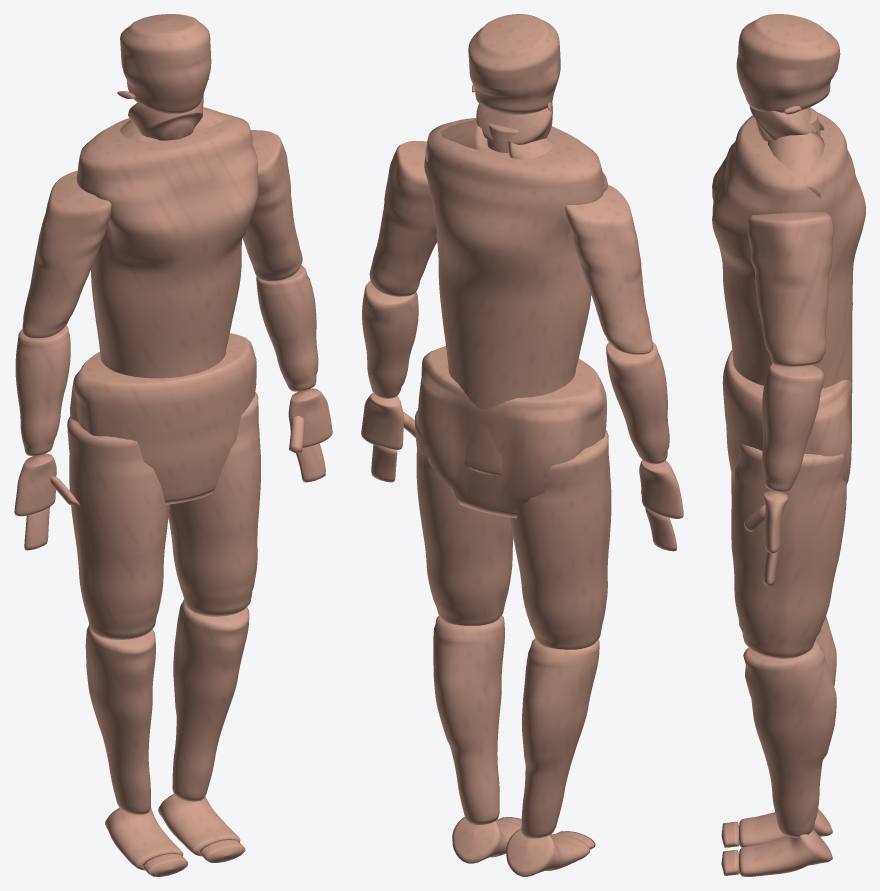
Rendered from body-female.f5135d56f6.glb.
The picture shows the model from 3 angles, left to right: view 1: azimuth 30°, elevation 25°; view 2: azimuth 150°, elevation 25°; view 3: azimuth 270°, elevation 25°; orthographic projection.
Parts seen in each view (by area): view 1: Body; view 2: Body; view 3: Body.
Part boxes in pixels (x1,y1,x2,y2): Body: (14,14,332,876); Body: (361,14,683,876); Body: (712,14,865,876).
Bounding box in the file's own units: 0.6893 × 1.72 × 0.2866.
Materials: 1 (1 with a texture image).
